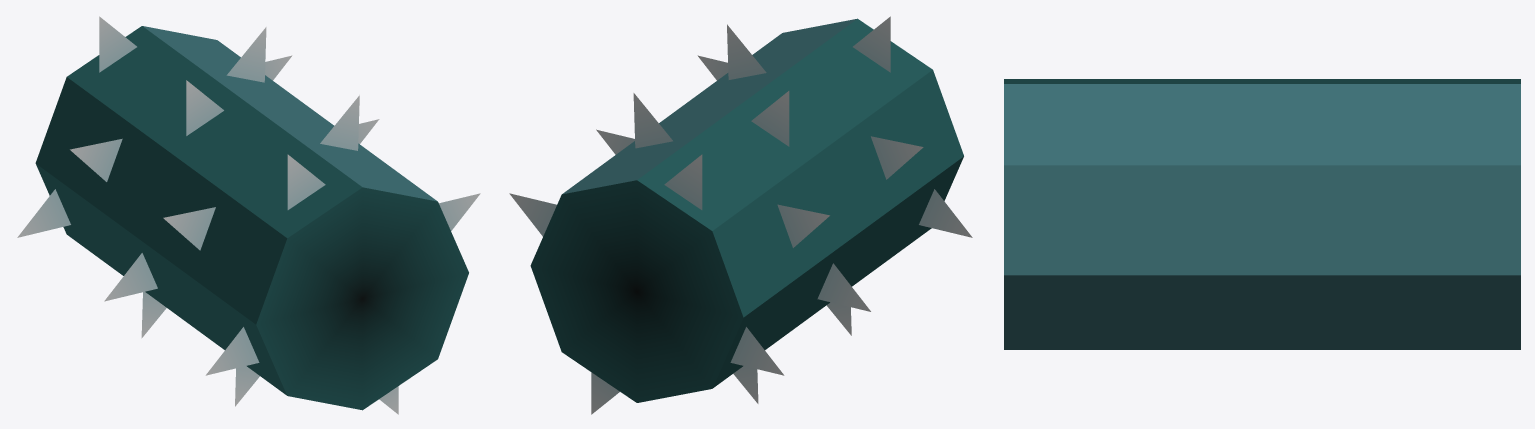
The model's file is DECO_GRINDER.glb.
3 views of the same model, side by side, from view 1: azimuth 30°, elevation 25°; view 2: azimuth 150°, elevation 25°; view 3: azimuth 270°, elevation 25° (orthographic). The views are drawn at different scales.
Parts seen in each view (by area): view 1: DECO_GRINDER; view 2: DECO_GRINDER; view 3: DECO_GRINDER.
Part boxes in pixels (bbox=[...]): DECO_GRINDER: bbox=[17, 16, 480, 414]; DECO_GRINDER: bbox=[509, 16, 972, 414]; DECO_GRINDER: bbox=[1004, 79, 1520, 349].
Bounding box in the file's own units: 1.73 × 1.73 × 2.4.
